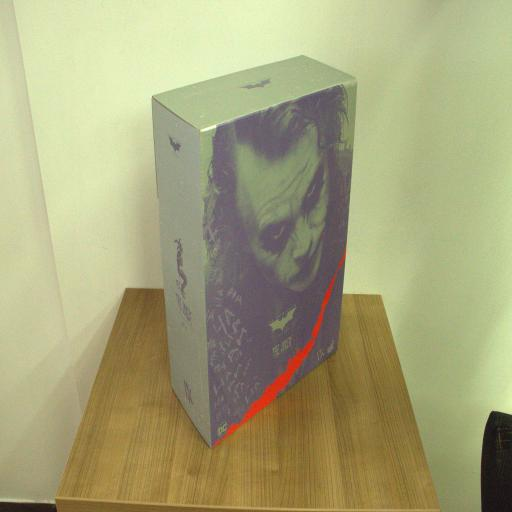Joker: (148, 54, 359, 452)
